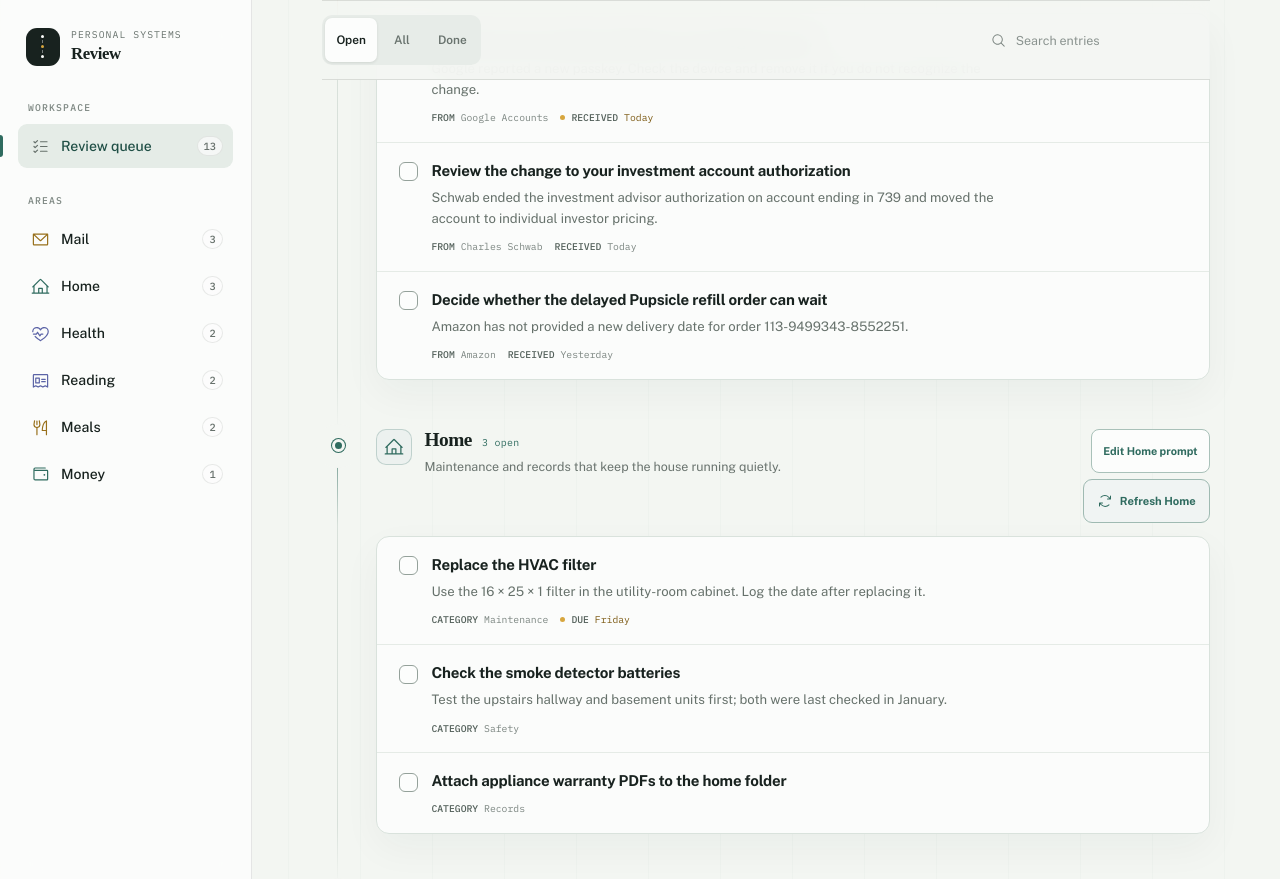
Test: ReviewApp › aborts a stalled prompt PUT through close without announcing an error
(page scrolled)
Click the button "Edit Home prompt".
click(1150, 451)  # box [1091,429,1210,473]
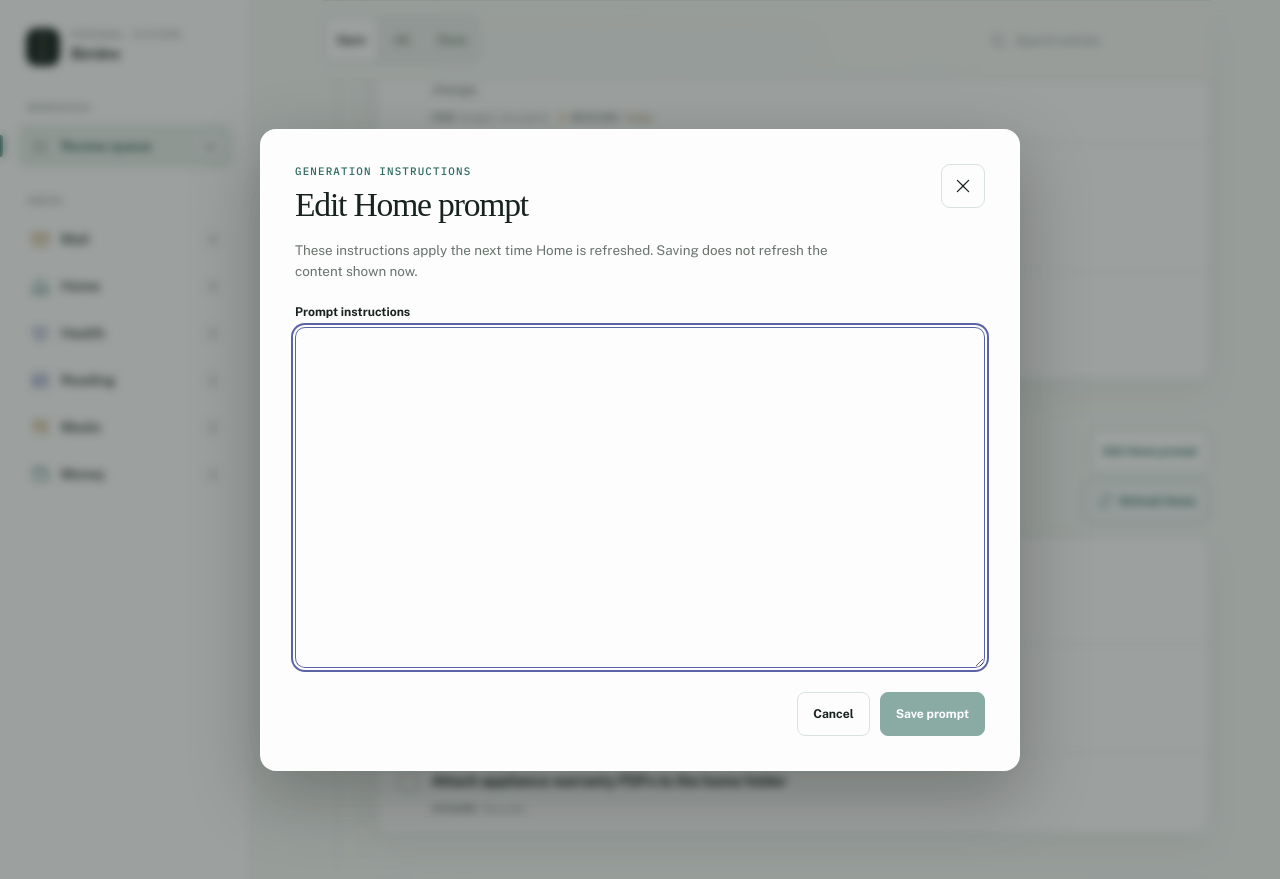
Expected: the text box labelled "Prompt instructions" is enabled
Type "Keep the checklist seasonal." into the text box labelled "Prompt instructions".
click(640, 497); type("Keep the checklist seasonal.")  # box [295,327,985,668]
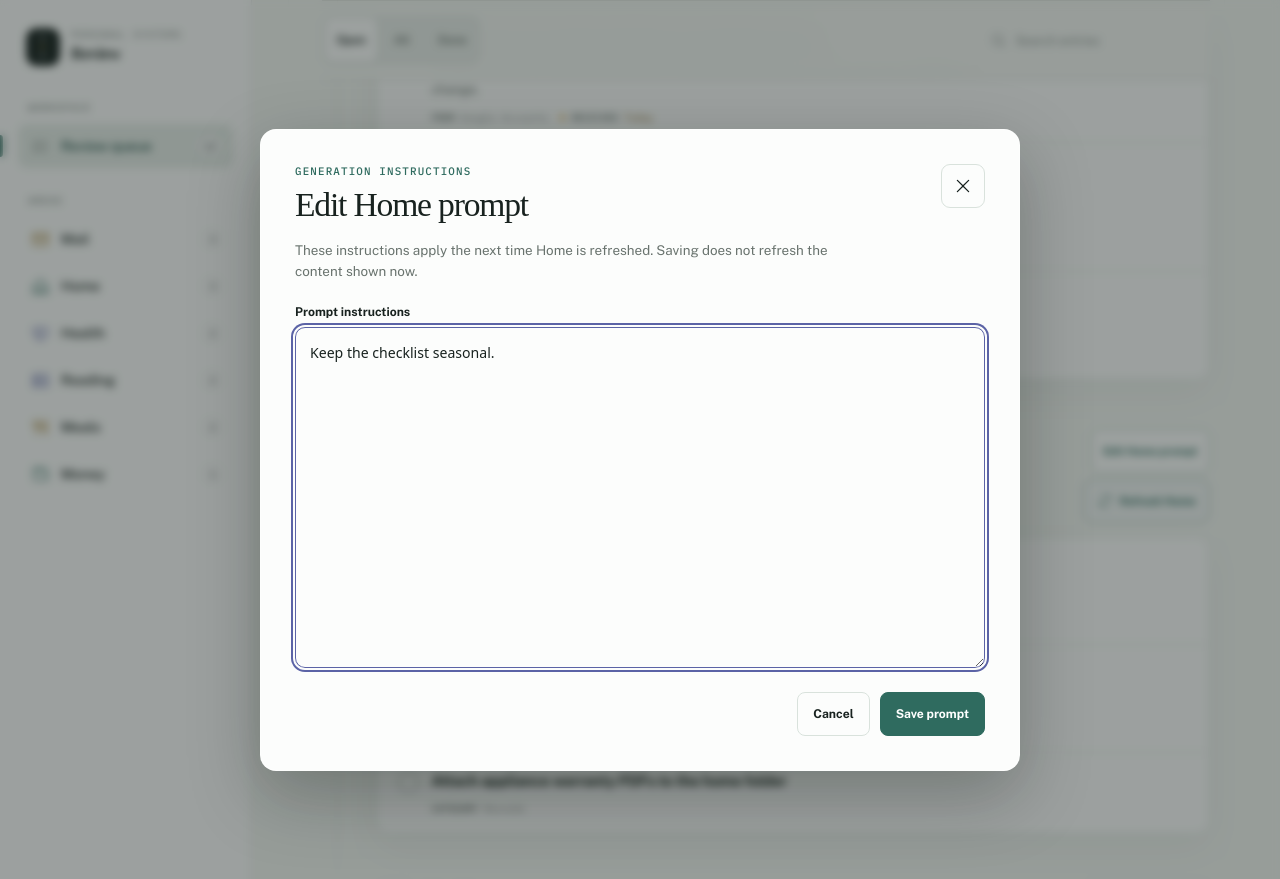
Click the button "Save prompt".
click(932, 714)  # box [880,692,985,736]
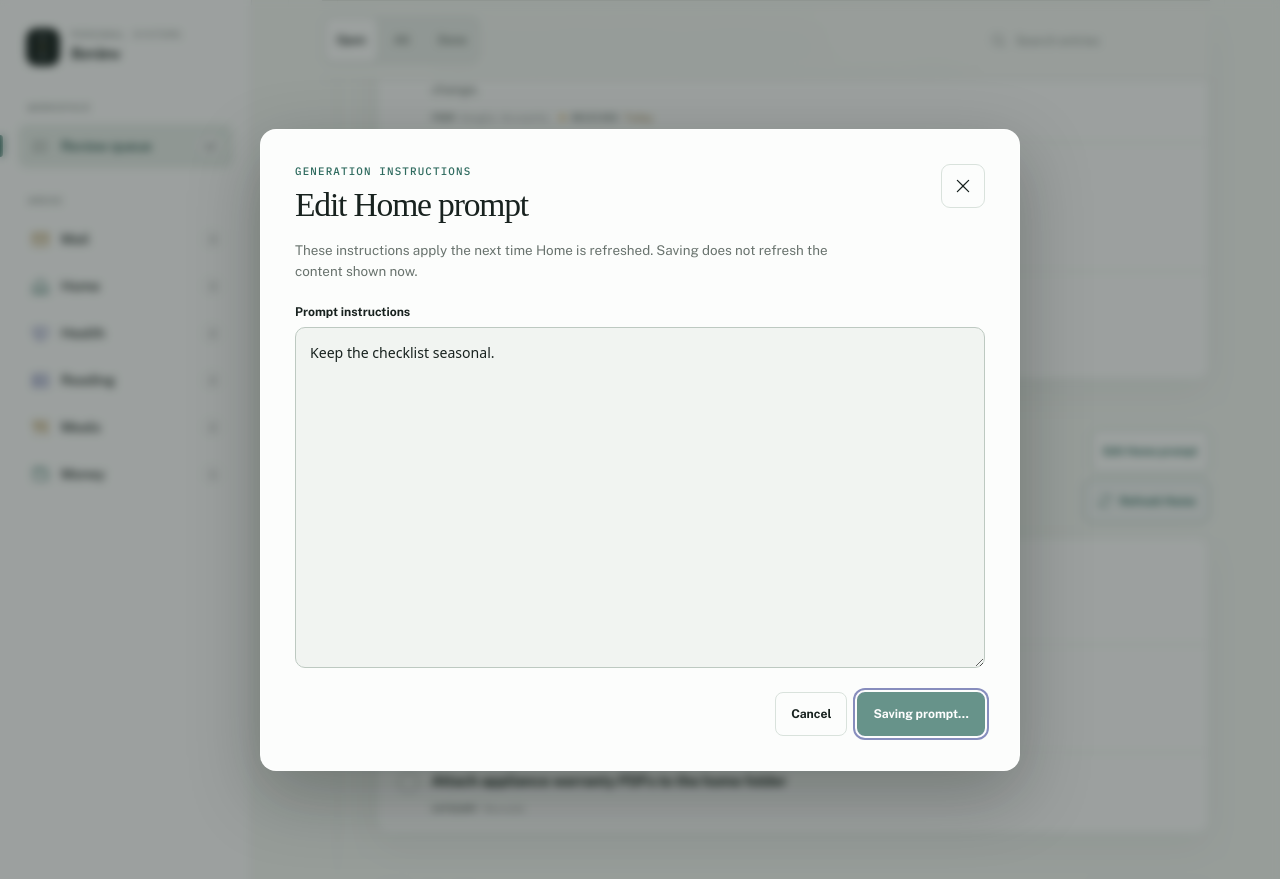
Click the button named "Cancel editing prompt".
click(963, 186)  # box [941,164,985,208]
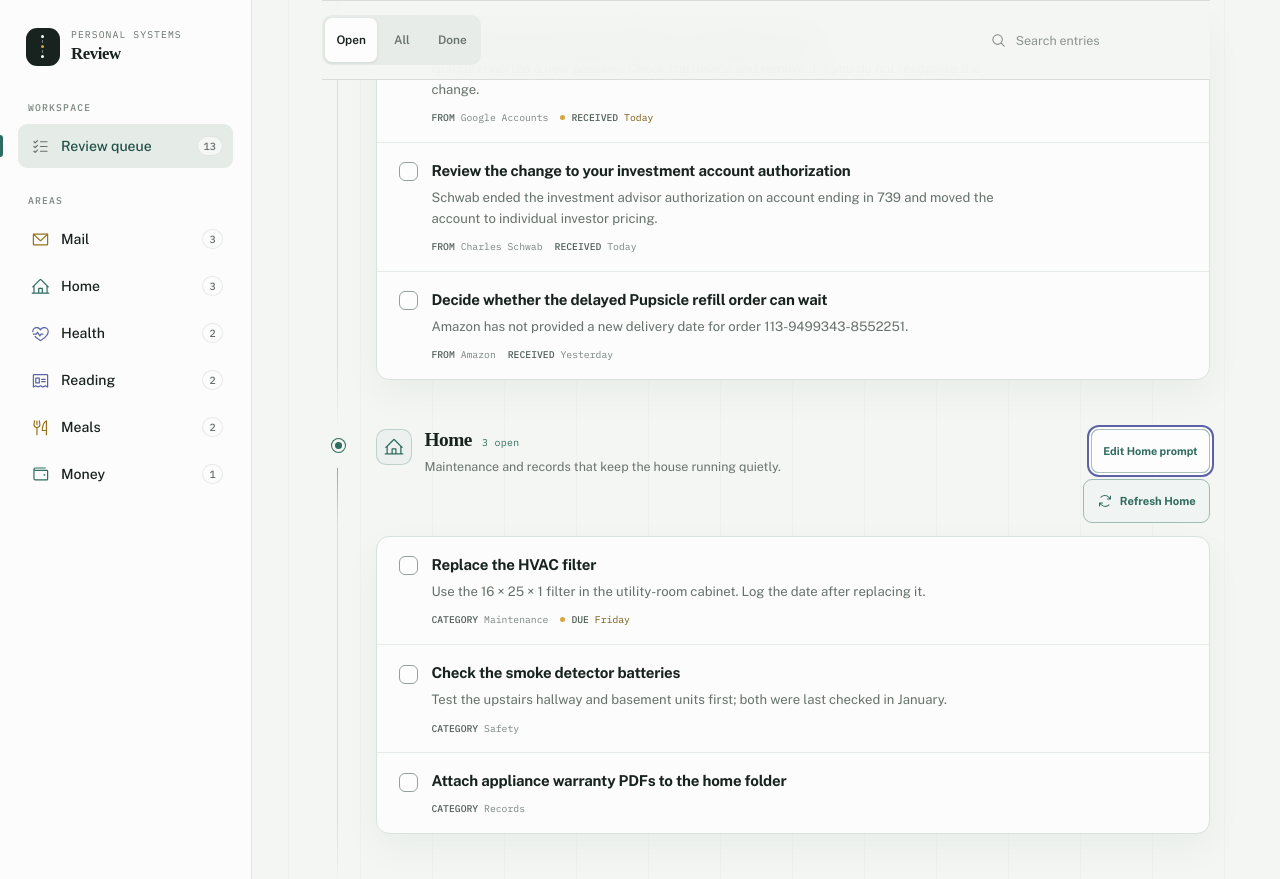
Expected: the dialog is gone
